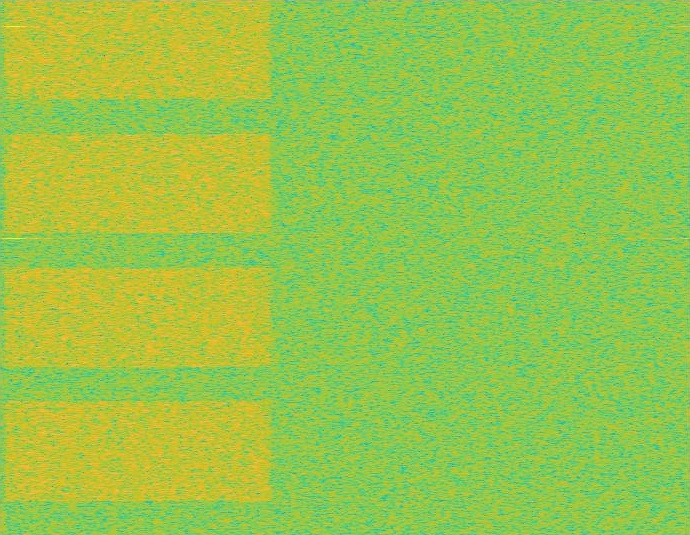5G: (0, 0, 276, 534)
Radar: (8, 0, 22, 534)
